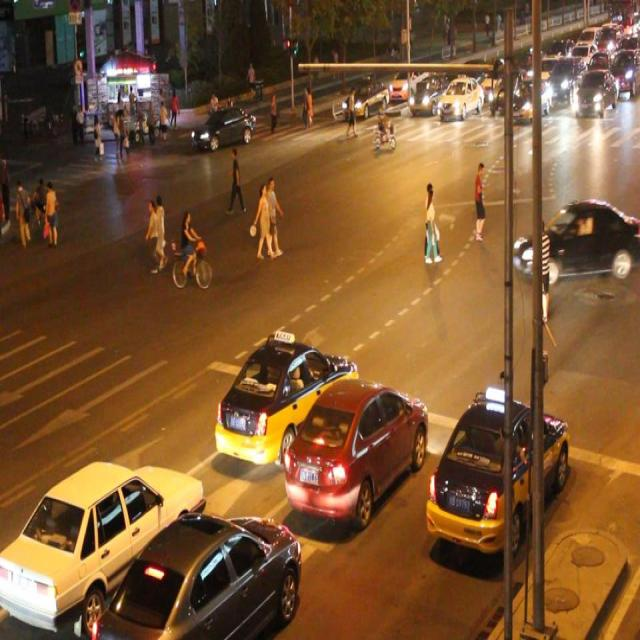car: (1, 456, 201, 628), (94, 513, 300, 640), (427, 394, 568, 551), (284, 378, 427, 524), (216, 332, 357, 467), (510, 192, 632, 282), (192, 104, 255, 150), (436, 74, 481, 116), (343, 77, 388, 119), (408, 72, 447, 116)
